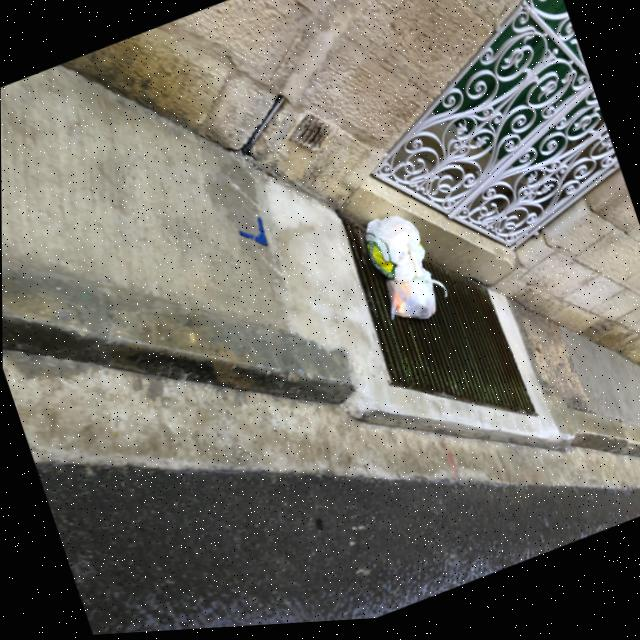Organic Waste -White Bag-: (359, 210, 431, 298), (376, 263, 455, 340)
